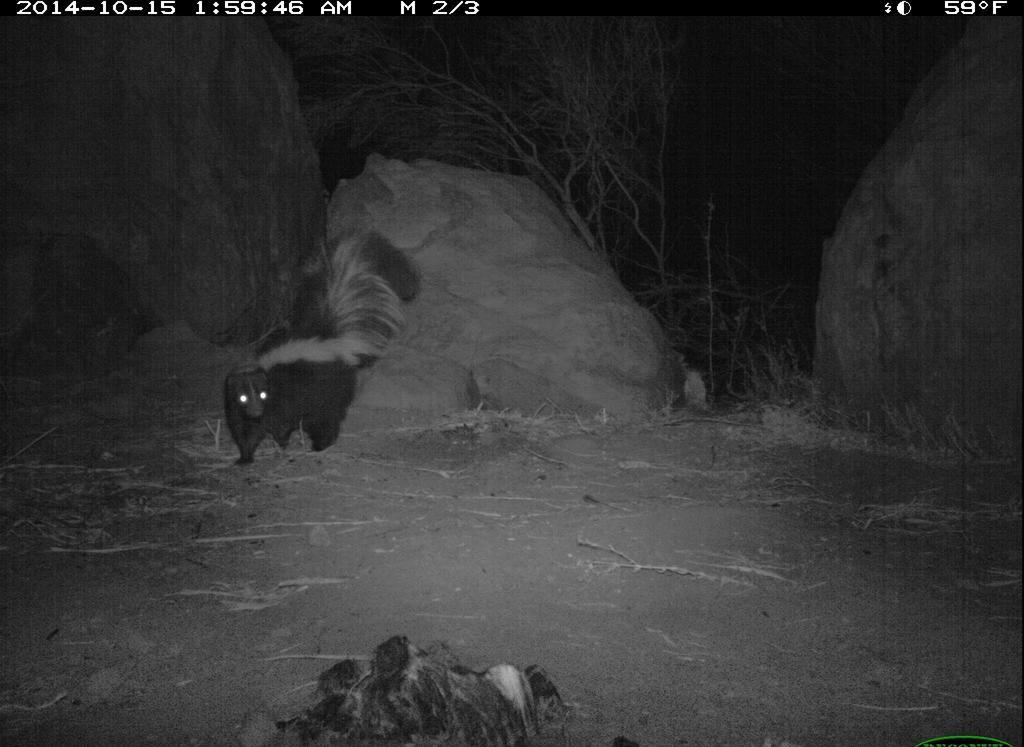skunk: (212, 219, 428, 479)
